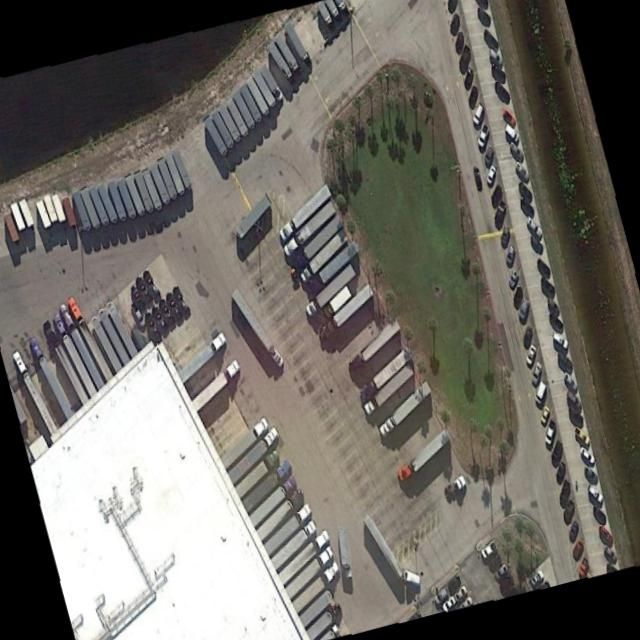large-vehicle: (231, 286, 284, 368), (11, 346, 58, 434), (42, 316, 89, 403), (58, 300, 104, 388), (67, 293, 113, 379), (29, 334, 74, 419), (53, 311, 98, 396), (278, 179, 332, 241), (282, 197, 337, 256), (396, 423, 451, 481), (227, 423, 280, 483), (277, 526, 331, 584), (322, 279, 374, 338), (379, 377, 431, 435), (241, 455, 292, 512), (304, 261, 356, 315), (363, 360, 414, 415), (299, 225, 349, 281), (284, 542, 334, 598), (177, 328, 228, 382), (220, 413, 270, 467), (191, 356, 240, 411), (256, 483, 304, 539), (249, 471, 298, 525), (263, 500, 312, 554), (291, 558, 340, 611), (270, 516, 317, 569), (234, 446, 280, 497), (260, 60, 284, 102)
small-vehicle: (130, 297, 147, 327), (493, 76, 510, 104), (558, 476, 572, 507), (525, 213, 543, 237), (482, 26, 499, 50), (458, 41, 472, 70), (476, 2, 491, 28), (598, 521, 614, 545), (563, 496, 576, 525), (515, 158, 530, 183), (579, 442, 596, 464), (557, 346, 573, 369), (477, 118, 490, 146), (491, 180, 504, 208), (490, 58, 505, 82), (551, 437, 563, 467), (446, 571, 463, 592), (528, 565, 545, 586), (552, 328, 569, 349), (574, 424, 590, 446), (566, 387, 582, 409), (494, 198, 506, 227), (588, 481, 603, 504), (584, 462, 599, 485), (488, 44, 503, 67), (592, 502, 606, 526), (471, 162, 483, 190), (467, 81, 479, 109), (509, 137, 523, 161), (544, 417, 556, 445), (504, 121, 519, 143), (448, 10, 461, 35), (481, 538, 498, 557), (494, 558, 509, 579), (519, 193, 534, 214), (502, 107, 517, 128), (531, 358, 543, 384), (534, 377, 546, 403), (564, 369, 578, 391), (453, 28, 465, 53), (518, 178, 532, 199), (472, 99, 484, 123), (572, 536, 584, 560), (463, 63, 474, 89), (526, 339, 537, 365), (568, 517, 579, 543), (453, 582, 468, 601), (603, 543, 617, 563), (537, 257, 551, 277), (434, 583, 448, 603), (500, 223, 511, 248), (555, 458, 566, 483), (518, 295, 528, 322), (541, 275, 555, 294), (513, 282, 523, 308), (486, 161, 497, 184), (550, 309, 563, 328), (539, 402, 550, 424), (522, 324, 532, 348), (547, 295, 560, 313), (508, 267, 519, 288), (505, 242, 515, 265), (532, 234, 543, 252), (484, 143, 493, 165), (475, 0, 489, 11), (446, 0, 457, 13)
